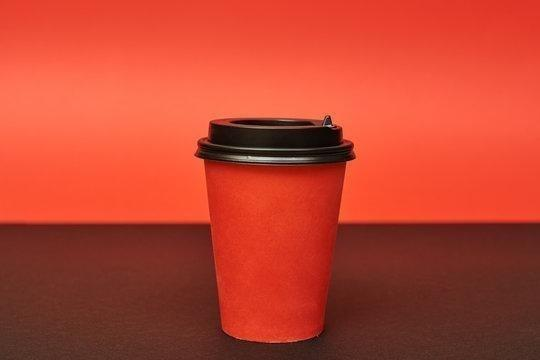cup-disposable: (192, 109, 358, 346)
